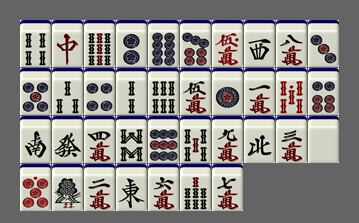0m: (212, 20, 243, 67)
0p: (20, 164, 51, 211)
0s: (276, 68, 307, 115)
1m: (244, 68, 275, 115)
1p: (212, 68, 243, 115)
1s: (52, 164, 83, 211)
1z: (116, 164, 147, 211)
2m: (84, 164, 115, 211)
2p: (116, 20, 147, 67)
2s: (116, 68, 147, 115)
2z: (20, 116, 51, 163)
3m: (276, 116, 307, 163)
3p: (308, 20, 339, 67)
3s: (52, 68, 83, 115)
3z: (244, 20, 275, 67)
4m: (84, 116, 115, 163)
4p: (84, 68, 115, 115)
4s: (20, 20, 51, 67)
4z: (244, 116, 275, 163)
5m: (180, 68, 211, 115)
5p: (20, 68, 51, 115)
5s: (180, 116, 211, 163)
5z: (308, 116, 339, 163)
6m: (148, 164, 179, 211)
6p: (308, 68, 339, 115)
6s: (148, 68, 179, 115)
6z: (52, 116, 83, 163)
7m: (212, 164, 243, 211)
7p: (180, 20, 211, 67)
7s: (180, 164, 211, 211)
7z: (52, 20, 83, 67)
8m: (276, 20, 307, 67)
8p: (148, 20, 179, 67)
8s: (116, 116, 147, 163)
9m: (212, 116, 243, 163)
9p: (148, 116, 179, 163)
9s: (84, 20, 115, 67)
